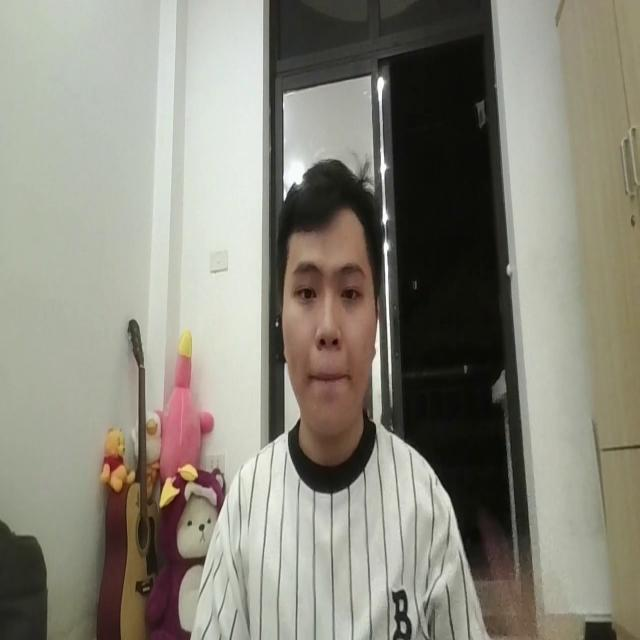student: (190, 152, 486, 640)
